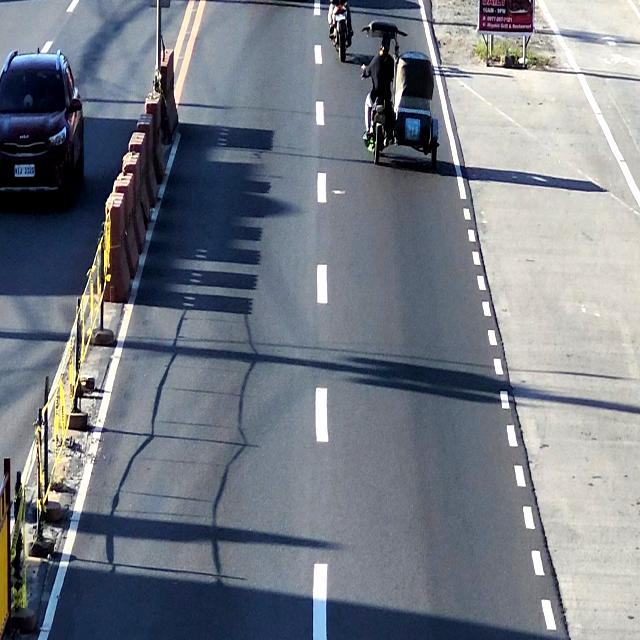Motorcycle: (326, 0, 353, 61)
Tricycle: (359, 14, 440, 170)
